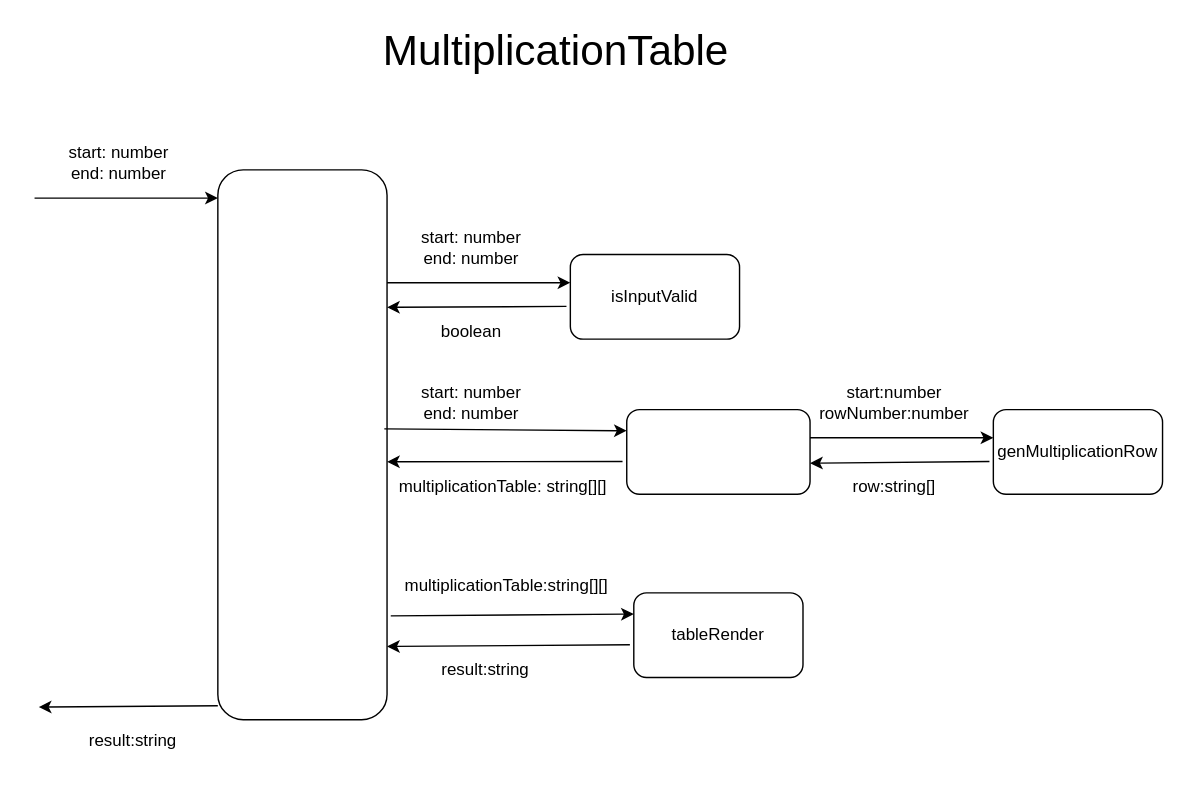
Some shapes in this 1187 by 785 pixel diagram are drawn without their labels. The shapes that lost their labels are listed below. From the top down, each one's centre as x and y in pixels, then its label:
At point 301,444: "render".
At point 717,451: "genMultiplicationTable".
